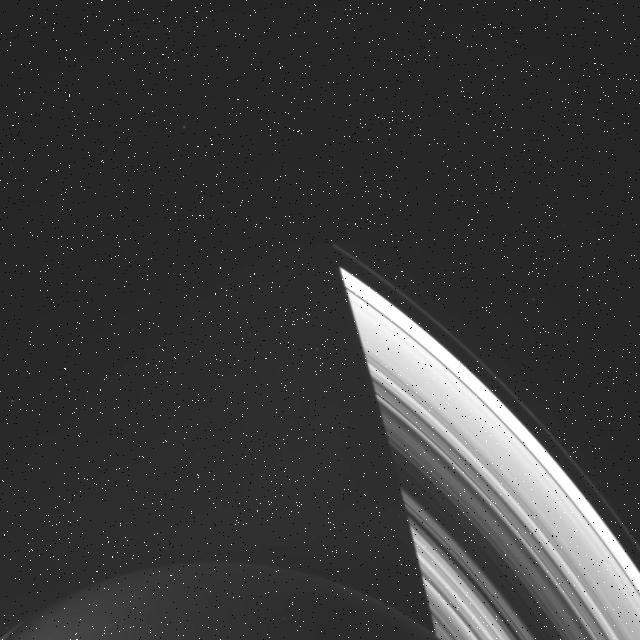Saturn: (330, 231, 640, 639)
